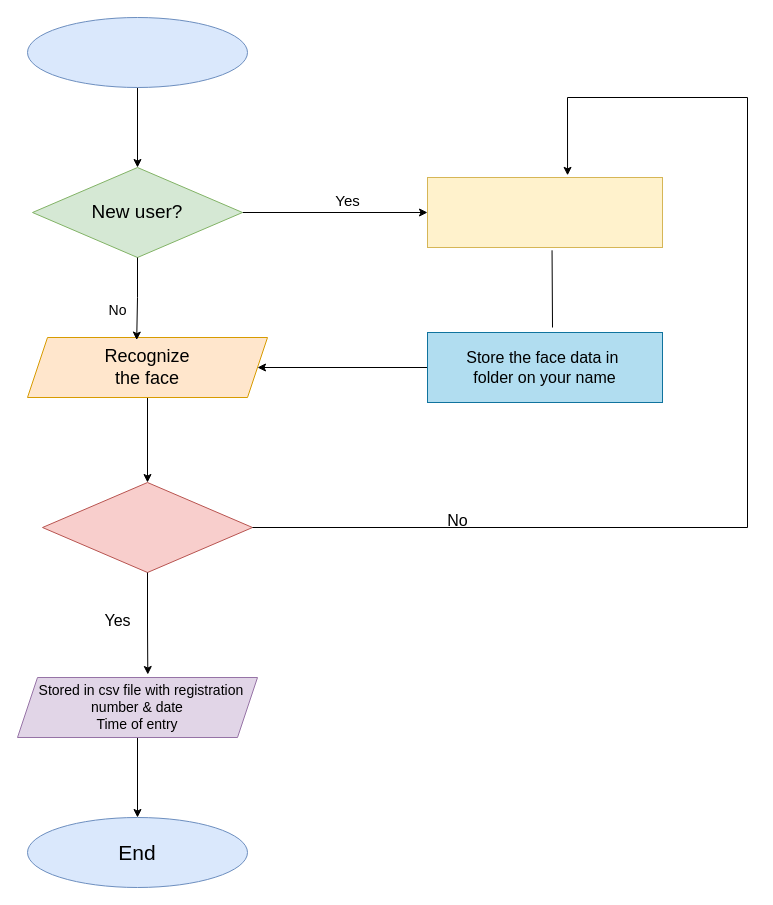
Image size: 773x905. Some labels were removed from this diagram. Each missing label, with the centre of its shape:
Face Recognized: pixel 147 527
Give your photograph: pixel 544 212
Start: pixel 137 52
